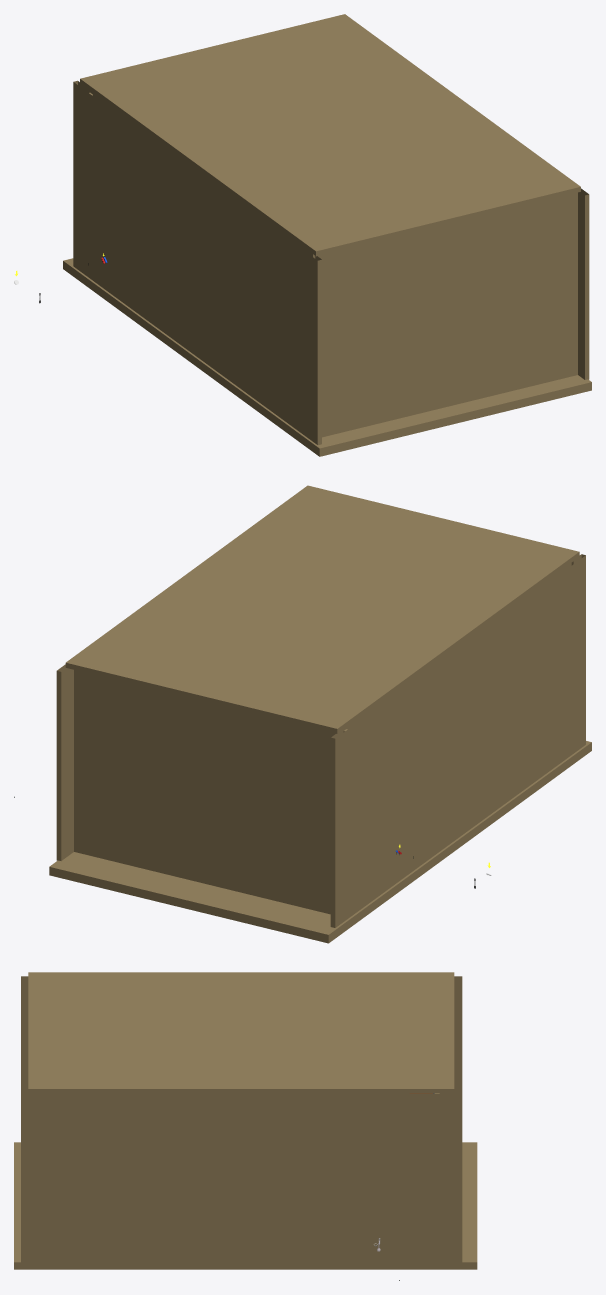
Rendered from VirtualChemLab.glb.
The picture shows the model from 3 angles, top to bottom: view 1: azimuth 30°, elevation 25°; view 2: azimuth 150°, elevation 25°; view 3: azimuth 270°, elevation 25°; orthographic projection. The views are drawn at different scales.
Visible parts, largest first — view 1: top-wall, back-wall, left-wall, bottom-wall, right-wall; view 2: top-wall, left-wall, front-wall, bottom-wall, right-wall; view 3: right-wall, top-wall, bottom-wall, left-wall.
Part boxes in pixels (x1,y1,x2,y2): top-wall: [80, 14, 580, 256]; back-wall: [310, 192, 577, 437]; left-wall: [73, 81, 321, 444]; bottom-wall: [63, 258, 591, 456]; right-wall: [578, 188, 589, 379]; top-wall: [65, 485, 579, 733]; left-wall: [330, 554, 585, 927]; front-wall: [74, 670, 347, 914]; bottom-wall: [49, 741, 591, 943]; right-wall: [56, 664, 73, 860]; right-wall: [21, 1094, 462, 1263]; top-wall: [28, 972, 454, 1093]; bottom-wall: [14, 1142, 477, 1269]; left-wall: [21, 976, 462, 1093].
Bounding box in the file's own units: 245 × 103 × 300.
